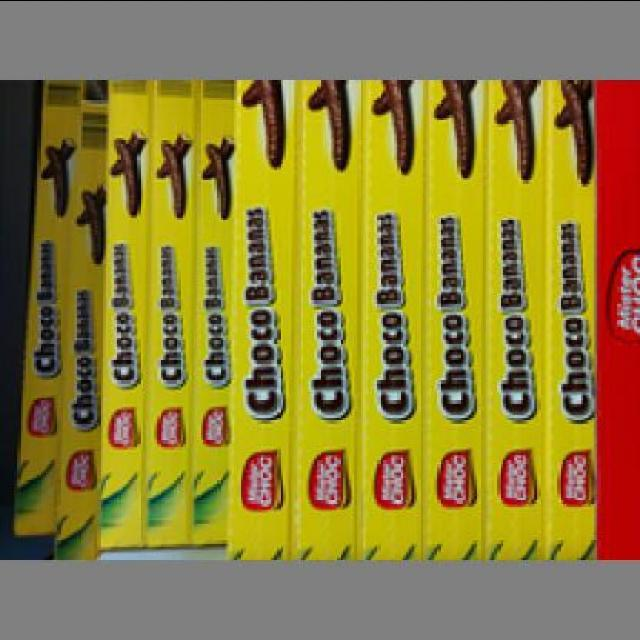Chocolate bar: (363, 80, 426, 563), (227, 83, 290, 563), (292, 83, 354, 563), (486, 83, 544, 563), (426, 83, 483, 563), (543, 86, 591, 566)
